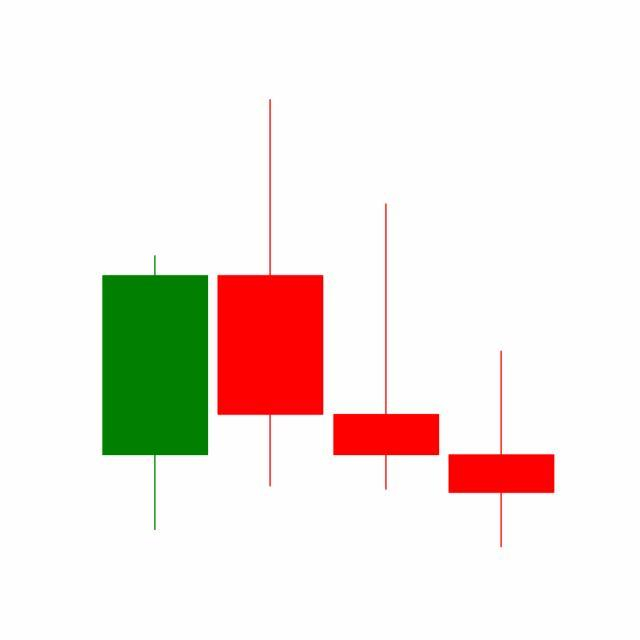Spinning Top: (444, 349, 560, 550)
